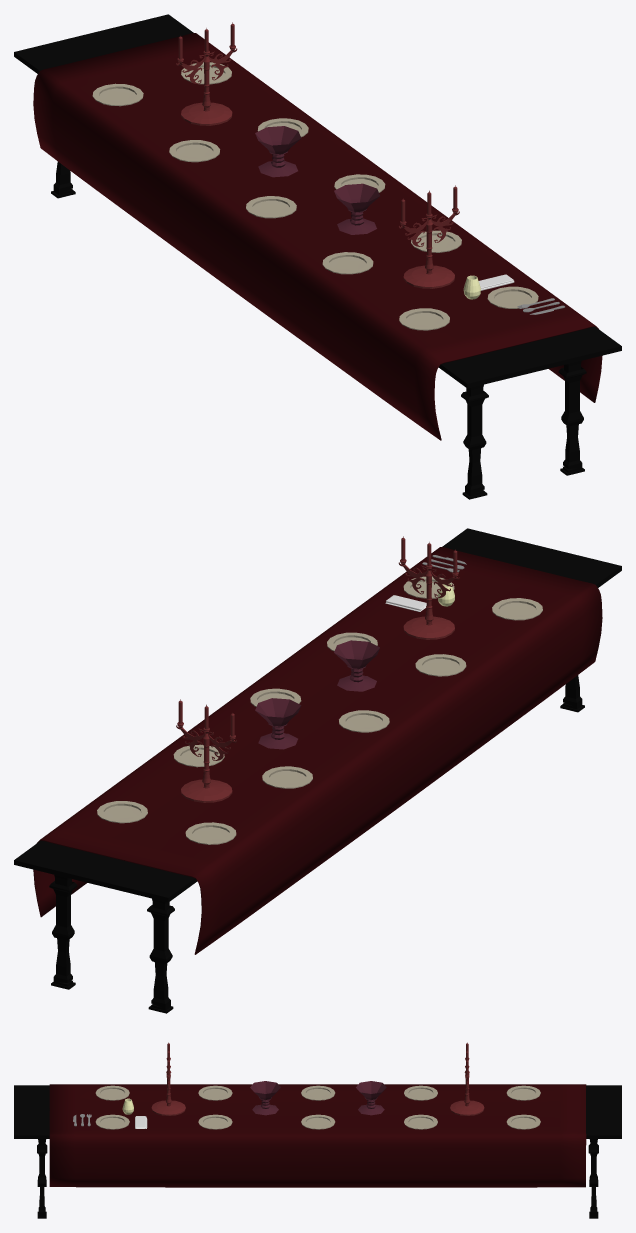
File: mesa.fbx
The picture shows the model from 3 angles, top to bottom: view 1: azimuth 30°, elevation 25°; view 2: azimuth 150°, elevation 25°; view 3: azimuth 270°, elevation 25°; orthographic projection. The views are drawn at different scales.
Visible parts, largest first — view 1: mantel, mesa.001, platos, candelabro feo :(, florero sin flores; view 2: mantel, mesa.001, platos, candelabro feo :(, florero sin flores; view 3: mantel, mesa.001, platos, florero sin flores, candelabro feo :(.
Boxes of the visible parts, box(x1,y1,x2,y2) form: mantel: box(33, 33, 602, 440); mesa.001: box(14, 14, 621, 499); platos: box(92, 62, 538, 330); candelabro feo :(: box(176, 22, 459, 288); florero sin flores: box(255, 126, 379, 234); mantel: box(33, 547, 602, 954); mesa.001: box(14, 528, 621, 1013); platos: box(97, 576, 542, 844); candelabro feo :(: box(176, 536, 459, 802); florero sin flores: box(255, 640, 379, 749); mantel: box(49, 1084, 586, 1187); mesa.001: box(14, 1085, 621, 1218); platos: box(95, 1085, 540, 1129); florero sin flores: box(250, 1081, 386, 1115); candelabro feo :(: box(151, 1042, 484, 1115).
Size of the model in its own units: 528 by 665 by 2447.
